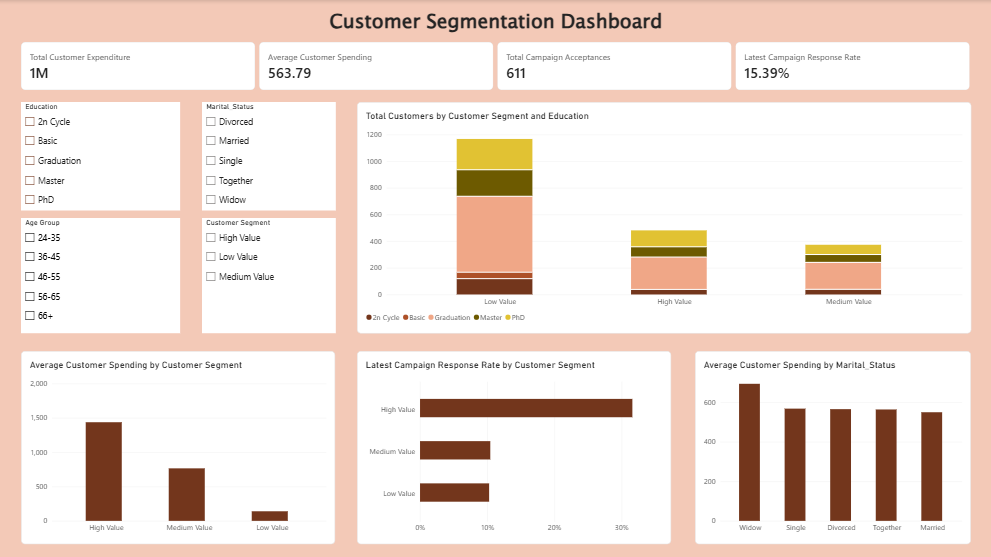

What the dashboard file says about the page in this screenshot:
{"tool":"powerbi","page":{"name":"Customer Segmentation","canvas":[1920,1080],"ordinal":3},"visuals":[{"type":"clusteredColumnChart","fields":{"Category":["Marketing.Customer Segment"],"Y":["Marketing.Average Customer Spending"]},"box":[41,678.7,608.2,373.8],"z":2},{"type":"columnChart","title":"Total Customers by Customer Segment and Education","fields":{"Category":["Marketing.Customer Segment"],"Series":["Marketing.Education"],"Y":["Marketing.Total Customers"]},"box":[690.2,196.7,1188.5,447.5],"z":3},{"type":"clusteredBarChart","fields":{"Category":["Marketing.Customer Segment"],"Y":["Marketing.Latest Campaign Response Rate"]},"box":[690.2,678.7,608.2,373.8],"z":4},{"type":"columnChart","fields":{"Category":["Marketing.Marital_Status"],"Y":["Marketing.Average Customer Spending"]},"box":[1344.3,678.7,534.4,373.8],"z":5},{"type":"slicer","fields":{"Values":["Marketing.Education"]},"box":[41,196.7,308.2,209.8],"z":9},{"type":"slicer","fields":{"Values":["Marketing.Age Group"]},"box":[41,421.3,308.2,223],"z":10},{"type":"slicer","fields":{"Values":["Marketing.Marital_Status"]},"box":[390.2,196.7,259,209.8],"z":11},{"type":"slicer","fields":{"Values":["Marketing.Customer Segment"]},"box":[390.2,421.3,259,223],"z":12},{"type":"cardVisual","fields":{"Data":["Marketing.Total Customer Expenditure","Marketing.Average Customer Spending","Marketing.Total Campaign Acceptances","Marketing.Latest Campaign Response Rate"]},"box":[41,82,1837.7,93.4],"z":13},{"type":"textbox","box":[0,13.1,1919.7,68.9],"z":14},{"type":"textbox","box":[93.4,0,1826.2,82],"z":15}]}

Visuals, with their boxes in screenshot pixels (x1, y1, x2, y2), scaled from the page's 1920x1080 canvas onto the 991x557 screenshot:
clusteredColumnChart - Marketing.Customer Segment x Marketing.Average Customer Spending: bbox=(21, 350, 335, 543)
"Total Customers by Customer Segment and Education" columnChart: bbox=(356, 101, 970, 332)
clusteredBarChart - Marketing.Customer Segment x Marketing.Latest Campaign Response Rate: bbox=(356, 350, 670, 543)
columnChart - Marketing.Marital_Status x Marketing.Average Customer Spending: bbox=(694, 350, 970, 543)
slicer - Marketing.Education: bbox=(21, 101, 180, 210)
slicer - Marketing.Age Group: bbox=(21, 217, 180, 332)
slicer - Marketing.Marital_Status: bbox=(201, 101, 335, 210)
slicer - Marketing.Customer Segment: bbox=(201, 217, 335, 332)
cardVisual - Marketing.Total Customer Expenditure x Marketing.Average Customer Spending: bbox=(21, 42, 970, 90)
textbox: bbox=(0, 7, 990, 42)
textbox: bbox=(48, 0, 990, 42)
